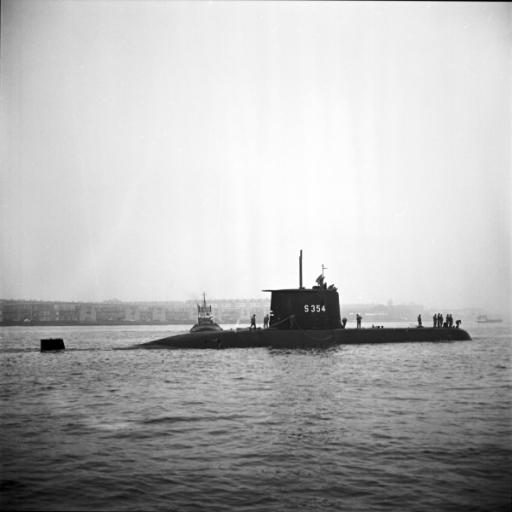submarine: (35, 250, 470, 351)
